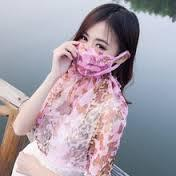OK: (76, 30, 116, 77)
